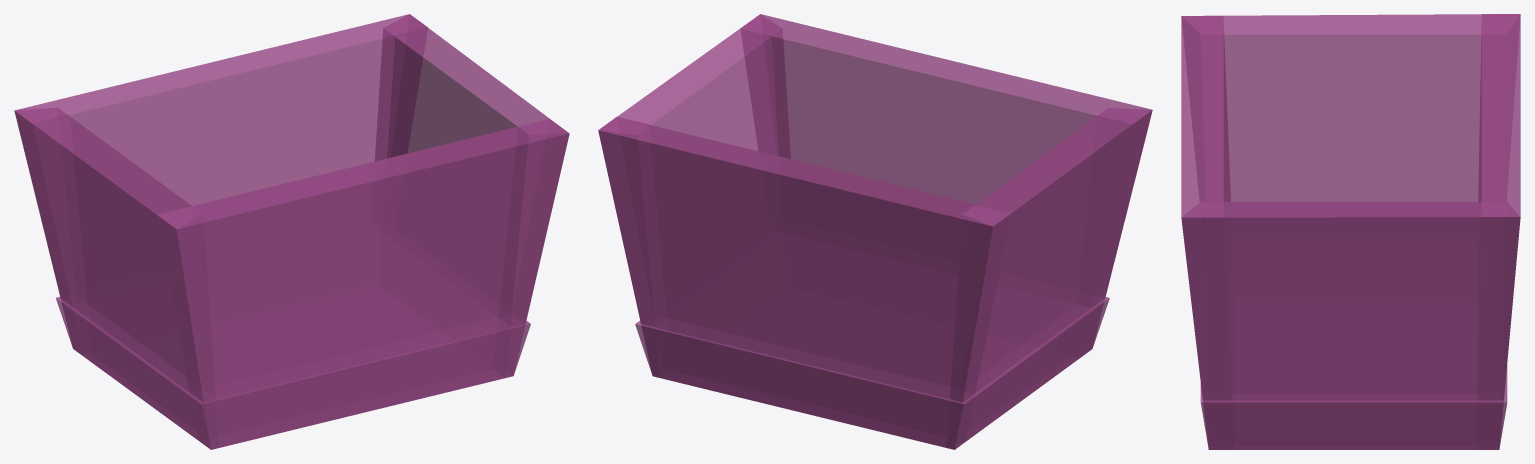
Rendered from SM_Prop_Cart_01_Collision.fbx.
3 views of the same model, side by side, from view 1: azimuth 30°, elevation 25°; view 2: azimuth 150°, elevation 25°; view 3: azimuth 270°, elevation 25° (orthographic). The views are drawn at different scales.
Visible parts, largest first — view 1: SM_Prop_Cart_01_Collision; view 2: SM_Prop_Cart_01_Collision; view 3: SM_Prop_Cart_01_Collision.
Boxes of the visible parts, bbox=[...] form: SM_Prop_Cart_01_Collision: bbox=[14, 14, 569, 449]; SM_Prop_Cart_01_Collision: bbox=[598, 14, 1152, 449]; SM_Prop_Cart_01_Collision: bbox=[1181, 14, 1520, 449].
Size of the model in its own units: 193 by 113 by 136.
